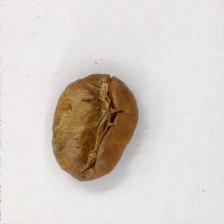NG: (51, 80, 112, 175)
